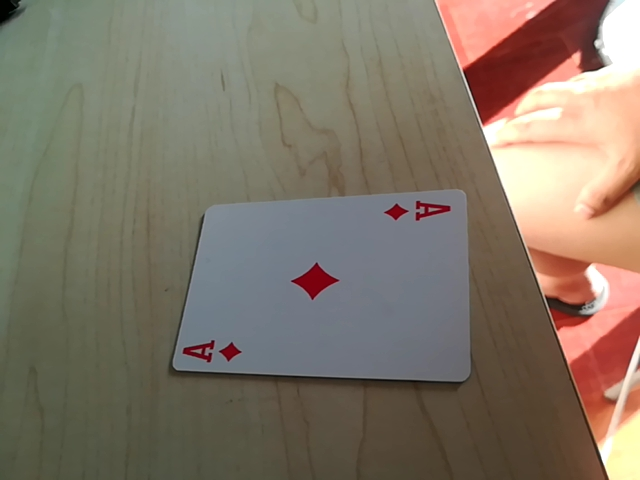fk a: (175, 336, 245, 368), (382, 198, 452, 225)
